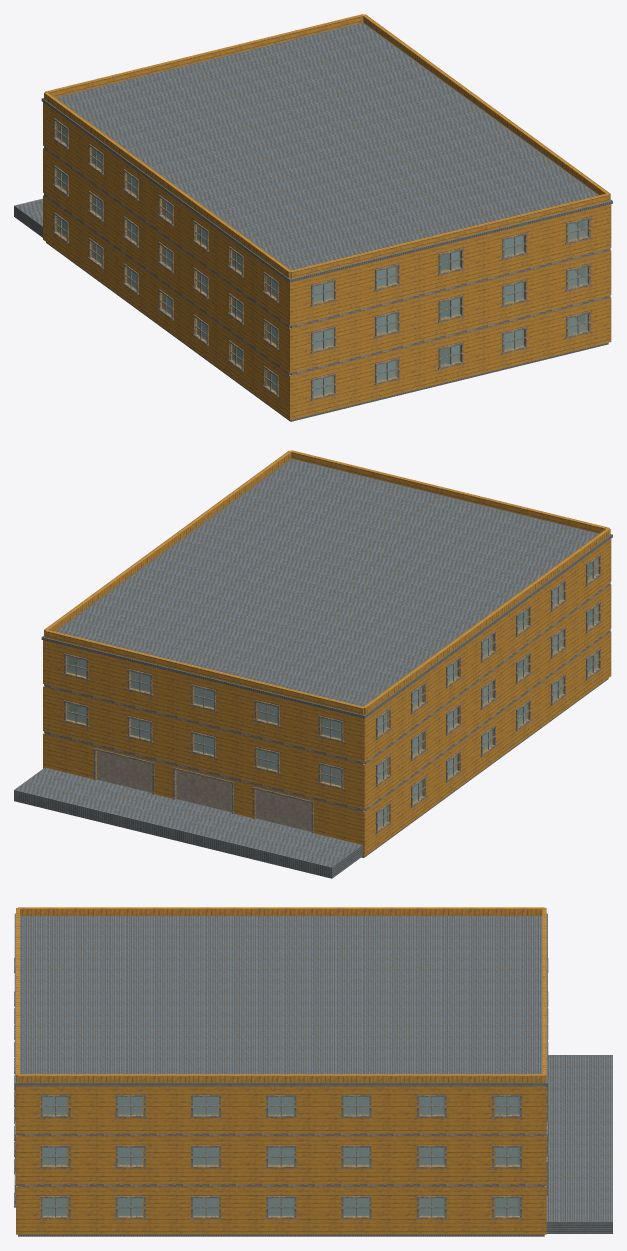
File: dockside-warehouse.gltf
3 views of the same model, one above another, from view 1: azimuth 30°, elevation 25°; view 2: azimuth 150°, elevation 25°; view 3: azimuth 270°, elevation 25° (orthographic). The views are drawn at different scales.
Parts seen in each view (by area): view 1: roof-L2-concrete, exterior-L1-brick, exterior-L0-brick, exterior-L2-brick, roof-L2-brick, trim-L0-dark-wood, trim-L1-dark-wood, trim-L2-dark-wood, glazing-L0-glass, glazing-L2-glass, glazing-L1-glass, floor-L0-concrete (+5 smaller); view 2: roof-L2-concrete, exterior-L1-brick, exterior-L2-brick, exterior-L0-brick, loading-dock-L0-concrete, roof-L2-brick, door-leaf-L0-blue-metal (×3), trim-L2-dark-wood, trim-L1-dark-wood, trim-L0-dark-wood, glazing-L2-glass, glazing-L1-glass (+6 smaller); view 3: roof-L2-concrete, exterior-L1-brick, exterior-L2-brick, exterior-L0-brick, loading-dock-L0-concrete, roof-L2-brick, floor-L0-concrete, glazing-L1-glass, glazing-L0-glass, glazing-L2-glass, trim-L1-dark-wood, trim-L0-dark-wood (+5 smaller).
Part boxes in pixels (box(x1,y1,x2,y2)): roof-L2-concrete: box(41, 22, 612, 282); exterior-L1-brick: box(43, 148, 611, 373); exterior-L0-brick: box(43, 195, 611, 420); exterior-L2-brick: box(43, 102, 611, 326); roof-L2-brick: box(44, 14, 610, 278); trim-L0-dark-wood: box(52, 212, 591, 400); trim-L1-dark-wood: box(52, 165, 591, 353); trim-L2-dark-wood: box(52, 118, 591, 306); glazing-L0-glass: box(57, 216, 587, 396); glazing-L2-glass: box(57, 122, 587, 302); glazing-L1-glass: box(57, 169, 587, 349); floor-L0-concrete: box(46, 242, 608, 421); roof-L2-concrete: box(41, 458, 612, 718); exterior-L1-brick: box(43, 584, 611, 809); exterior-L2-brick: box(43, 539, 611, 762); exterior-L0-brick: box(43, 631, 611, 856); loading-dock-L0-concrete: box(14, 767, 362, 878); roof-L2-brick: box(44, 450, 610, 714); door-leaf-L0-blue-metal (×3): box(96, 751, 311, 831); trim-L2-dark-wood: box(63, 554, 601, 742); trim-L1-dark-wood: box(63, 601, 601, 789); trim-L0-dark-wood: box(93, 648, 601, 833); glazing-L2-glass: box(67, 559, 597, 738); glazing-L1-glass: box(67, 606, 597, 786); roof-L2-concrete: box(14, 913, 547, 1086); exterior-L1-brick: box(16, 1135, 546, 1184); exterior-L2-brick: box(16, 1086, 546, 1133); exterior-L0-brick: box(16, 1186, 546, 1234); loading-dock-L0-concrete: box(546, 1055, 612, 1233); roof-L2-brick: box(16, 907, 546, 1082); floor-L0-concrete: box(18, 1199, 544, 1236); glazing-L1-glass: box(42, 1147, 519, 1165); glazing-L0-glass: box(42, 1198, 519, 1215); glazing-L2-glass: box(42, 1097, 519, 1114); trim-L1-dark-wood: box(14, 1008, 548, 1168); trim-L0-dark-wood: box(14, 1073, 547, 1219).
Size of the model in its own units: 15.3 by 6.78 by 22.75.
Materials: 8 (7 with a texture image).
